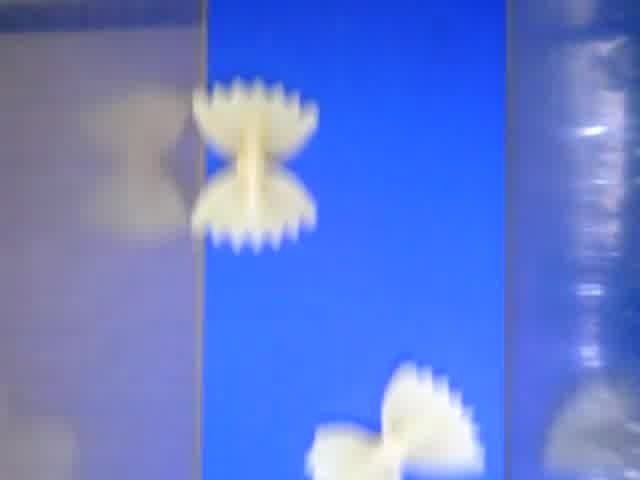farfalle: (303, 359, 485, 480), (193, 78, 318, 249)
